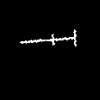double_crochet: (20, 30, 75, 45)
